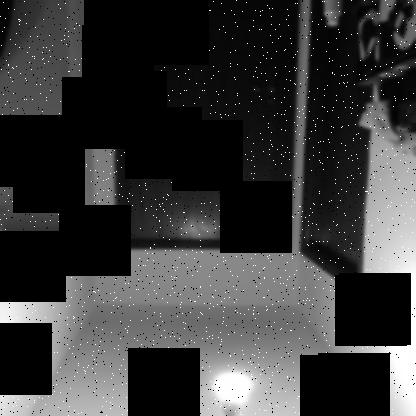Porte: (107, 1, 305, 254)
